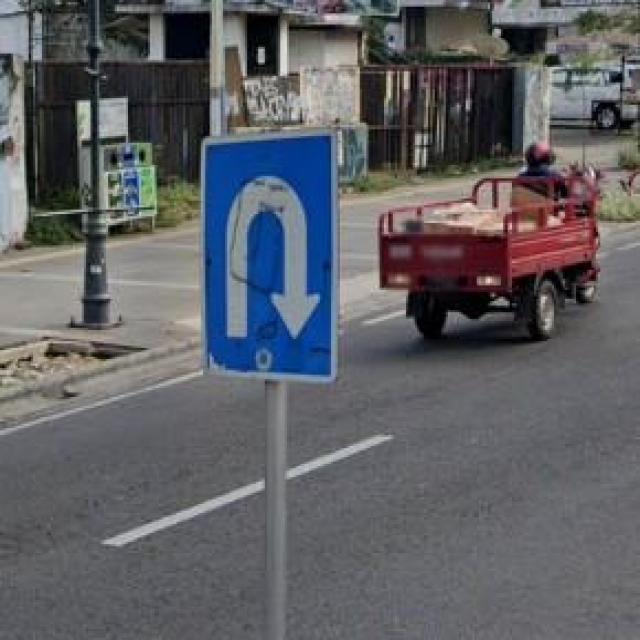traffic sign: (201, 130, 334, 384)
